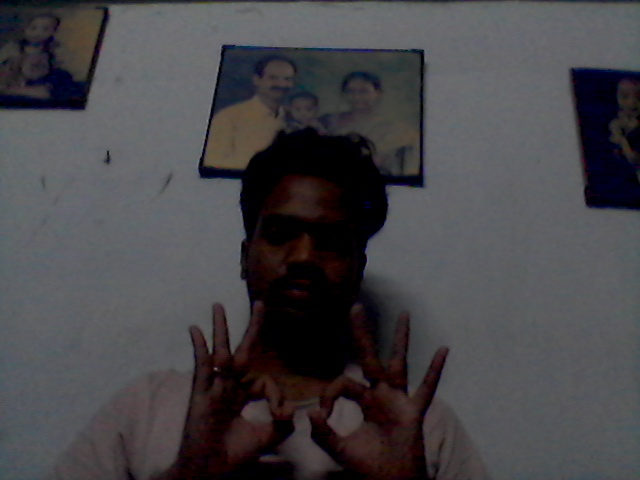How are you: (187, 301, 451, 480)
